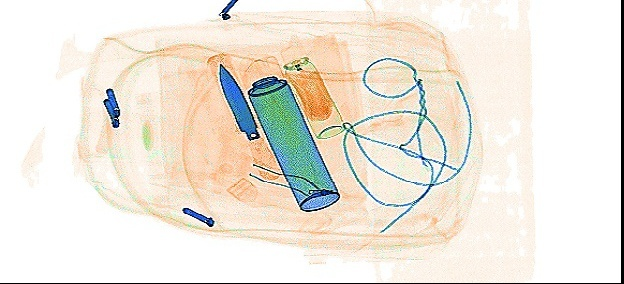knife: (206, 51, 279, 180)
pressure: (239, 50, 339, 211), (279, 41, 345, 139)
